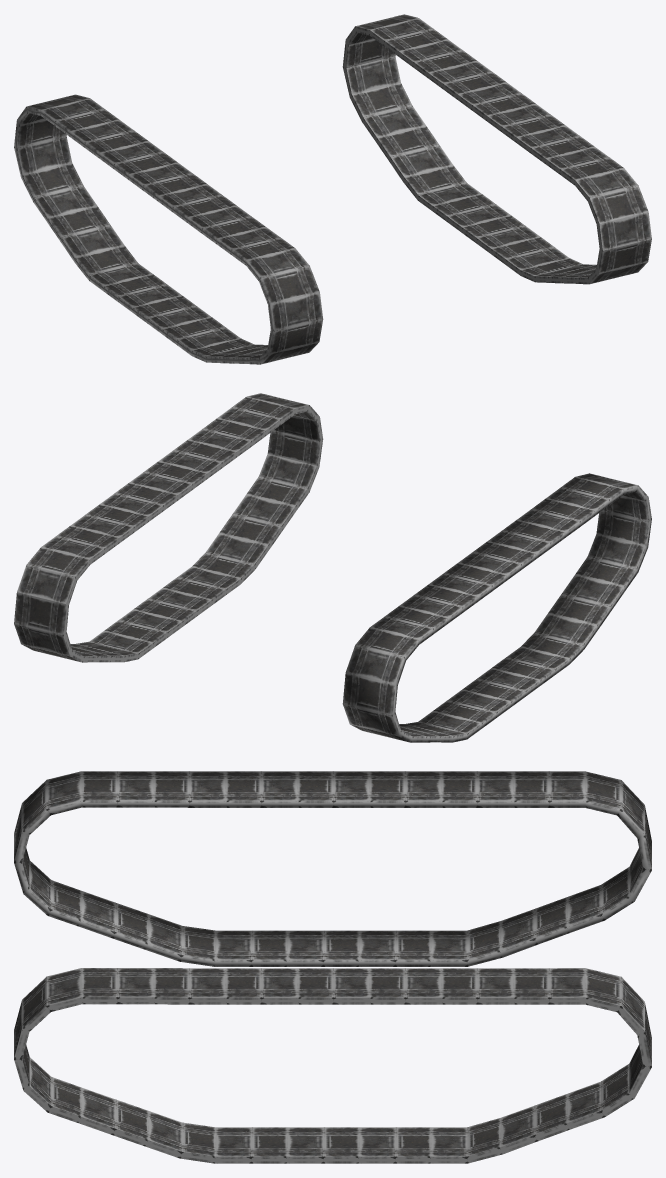
Rendered from Tracks.fbx.
3 views of the same model, one above another, from view 1: azimuth 30°, elevation 25°; view 2: azimuth 150°, elevation 25°; view 3: azimuth 270°, elevation 25° (orthographic). The views are drawn at different scales.
Parts seen in each view (by area): view 1: Left_Tracks, Right_Tracks; view 2: Left_Tracks, Right_Tracks; view 3: Right_Tracks, Left_Tracks.
Part boxes in pixels (bbox=[...]): Left_Tracks: bbox=[342, 14, 651, 284]; Right_Tracks: bbox=[14, 94, 323, 364]; Left_Tracks: bbox=[14, 393, 323, 662]; Right_Tracks: bbox=[342, 473, 651, 742]; Right_Tracks: bbox=[14, 771, 651, 966]; Left_Tracks: bbox=[14, 968, 651, 1163].
Bounding box in the file's own units: 277 × 95.12 × 330.
